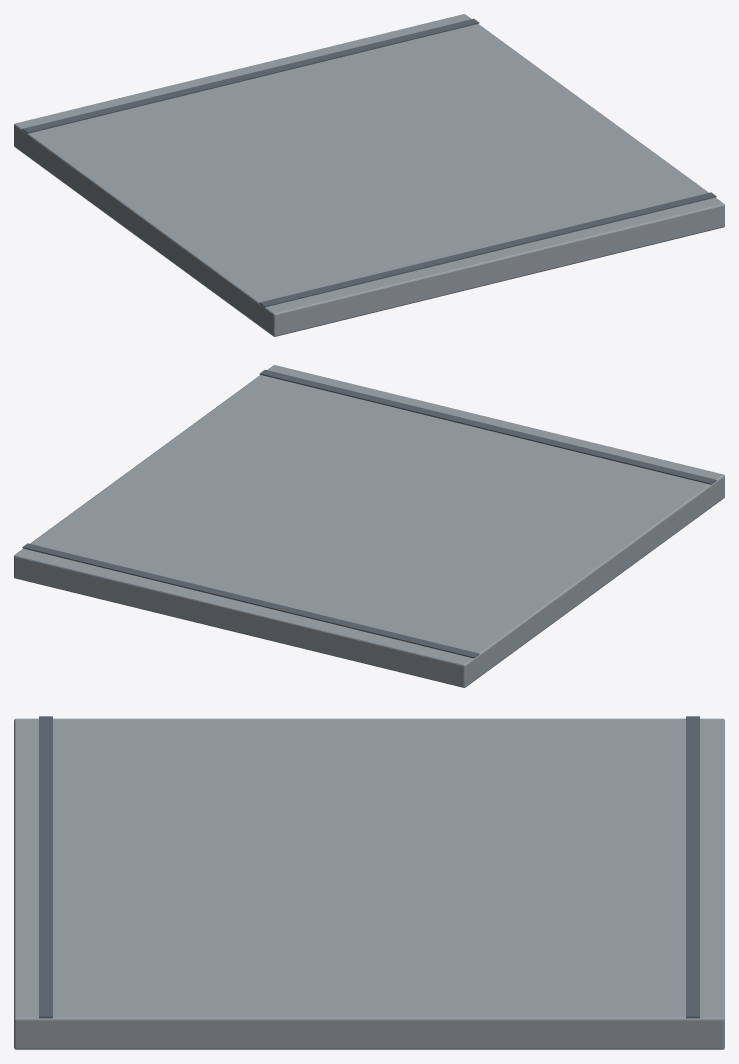
File: 1_Floor.fbx
3 renders of one model, top to bottom at view 1: azimuth 30°, elevation 25°; view 2: azimuth 150°, elevation 25°; view 3: azimuth 270°, elevation 25°, orthographic. The views are drawn at different scales.
Visible parts, largest first — view 1: Body; view 2: Body; view 3: Body.
Boxes of the visible parts, x1=… form: Body: x1=14, y1=14, x2=724, y2=336; Body: x1=14, y1=365, x2=724, y2=687; Body: x1=14, y1=716, x2=724, y2=1049.
Bounding box in the file's own units: 4 × 0.21 × 4.
